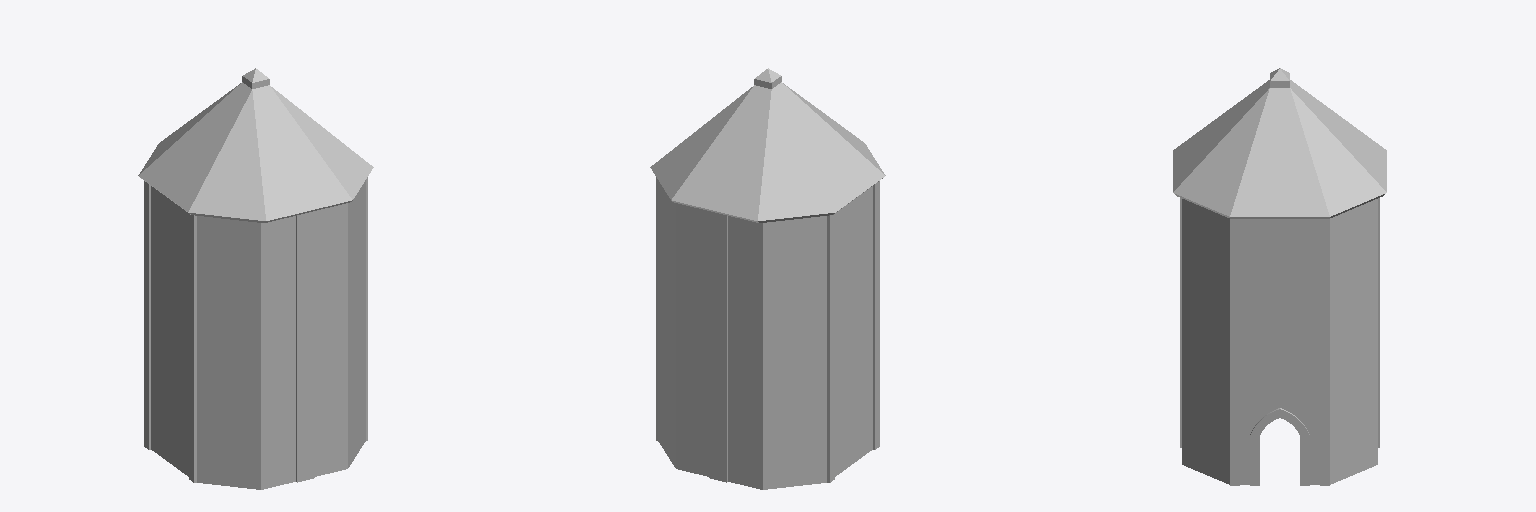
Rendered from millbase.obj.
3 views of the same model, side by side, from view 1: azimuth 30°, elevation 25°; view 2: azimuth 150°, elevation 25°; view 3: azimuth 270°, elevation 25° (orthographic).
Visible parts, largest first — view 1: roofHighCornerRound.004, wallCornerDiagonalHalf.002, wallWoodCornerDiagonalHalf.005, wallWoodCornerDiagonalHalf.003, roofHighCornerRound.001, wallWoodCornerDiagonalHalf.008, wallCornerDiagonalHalf.001, wallWoodCornerDiagonalHalf.002, wall, wallWood.003, wallWood.001, roofHighCornerRound.003; view 2: roofHighCornerRound.003, wallCornerDiagonalHalf.003, wallWoodCornerDiagonalHalf.004, wallWoodCornerDiagonalHalf.006, roofHighCornerRound.002, wallWoodCornerDiagonalHalf.001, wallCornerDiagonalHalf.004, wallWoodCornerDiagonalHalf.007, wall, wallWood.003, wallWood.001, roofHighCornerRound.004; view 3: roofHighCornerRound.001, roofHighCornerRound.002, wallWood, wallWood.002, wallDoorwayRound, wallCornerDiagonalHalf.004, wallCornerDiagonalHalf.001, wallWoodCornerDiagonalHalf.008, wallWoodCornerDiagonalHalf.001, wallWoodCornerDiagonalHalf.002, wallWoodCornerDiagonalHalf.007, roofHighCornerRound.003 (+1 smaller).
Boxes of the visible parts, <box> form: roofHighCornerRound.004: <box>163,69,308,222</box>; wallCornerDiagonalHalf.002: <box>197,390,305,489</box>; wallWoodCornerDiagonalHalf.005: <box>197,299,305,398</box>; wallWoodCornerDiagonalHalf.003: <box>197,213,305,308</box>; roofHighCornerRound.001: <box>257,69,373,212</box>; wallWoodCornerDiagonalHalf.008: <box>306,260,365,389</box>; wallCornerDiagonalHalf.001: <box>306,351,365,479</box>; wallWoodCornerDiagonalHalf.002: <box>306,180,365,298</box>; wall: <box>144,356,196,482</box>; wallWood.003: <box>144,265,196,392</box>; wallWood.001: <box>144,181,196,301</box>; roofHighCornerRound.003: <box>138,68,255,193</box>; roofHighCornerRound.003: <box>715,69,860,222</box>; wallCornerDiagonalHalf.003: <box>718,390,826,489</box>; wallWoodCornerDiagonalHalf.004: <box>718,299,826,398</box>; wallWoodCornerDiagonalHalf.006: <box>718,213,826,308</box>; roofHighCornerRound.002: <box>650,69,766,212</box>; wallWoodCornerDiagonalHalf.001: <box>658,260,717,389</box>; wallCornerDiagonalHalf.004: <box>658,351,717,479</box>; wallWoodCornerDiagonalHalf.007: <box>658,180,717,298</box>; wall: <box>827,356,879,482</box>; wallWood.003: <box>827,265,879,392</box>; wallWood.001: <box>827,181,879,301</box>; roofHighCornerRound.004: <box>768,68,885,193</box>; roofHighCornerRound.001: <box>1173,69,1279,218</box>; roofHighCornerRound.002: <box>1280,69,1386,218</box>; wallWood: <box>1230,304,1329,394</box>; wallWood.002: <box>1230,219,1329,304</box>; wallDoorwayRound: <box>1230,394,1329,485</box>; wallCornerDiagonalHalf.004: <box>1330,357,1379,484</box>; wallCornerDiagonalHalf.001: <box>1180,357,1229,484</box>; wallWoodCornerDiagonalHalf.008: <box>1180,267,1229,393</box>; wallWoodCornerDiagonalHalf.001: <box>1330,267,1379,393</box>; wallWoodCornerDiagonalHalf.002: <box>1180,198,1229,302</box>; wallWoodCornerDiagonalHalf.007: <box>1330,198,1379,302</box>; roofHighCornerRound.003: <box>1280,68,1386,170</box>.
Size of the model in its own units: 2.14 by 4.14 by 2.14.